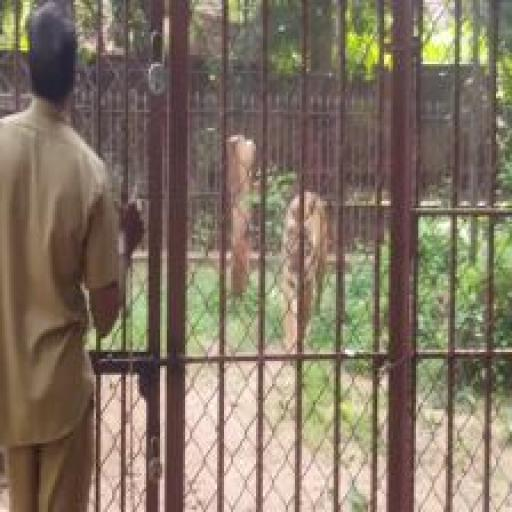Tiger: (215, 85, 345, 376)
